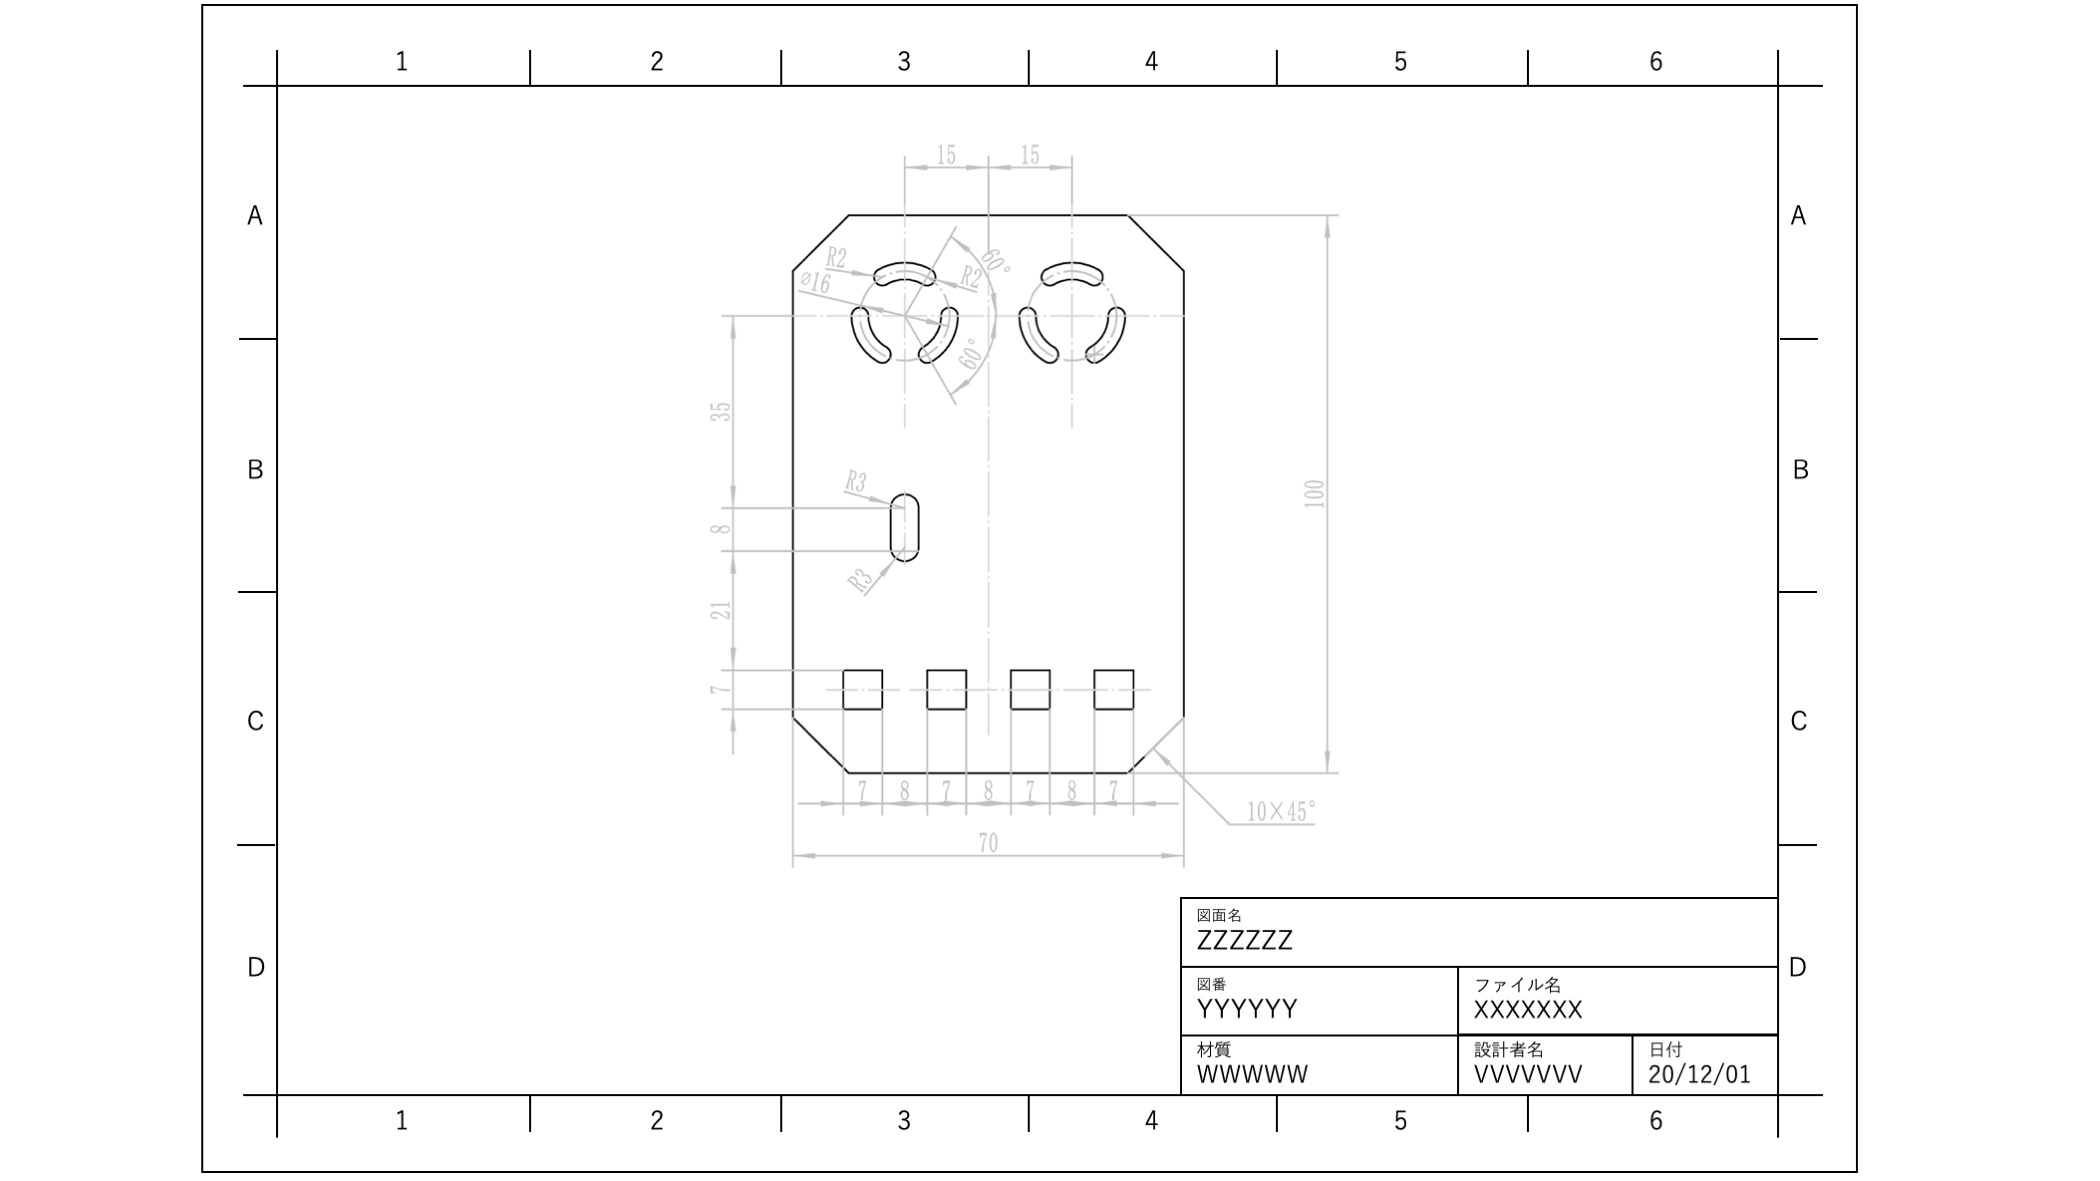rectangle: (1000, 653, 1062, 720), (834, 655, 888, 720), (1085, 647, 1139, 711), (914, 658, 972, 717)
round_rectangle: (877, 474, 925, 570), (835, 301, 896, 375), (1079, 287, 1129, 372), (1011, 297, 1067, 366), (912, 301, 966, 365), (868, 252, 950, 290), (1041, 244, 1108, 290)
